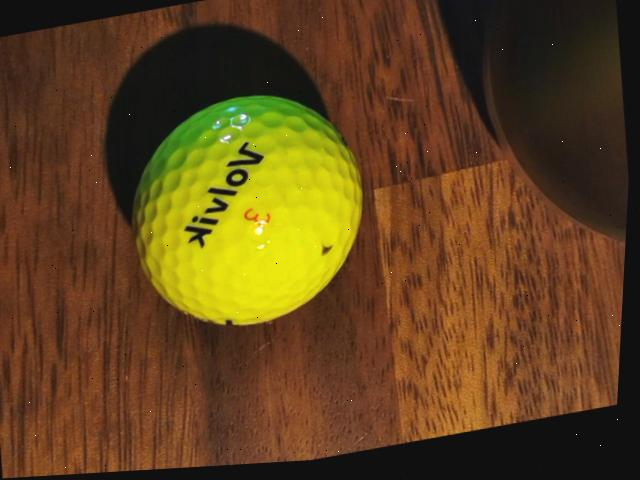Ball: (115, 81, 384, 351)
Volvik: (176, 143, 277, 256)
